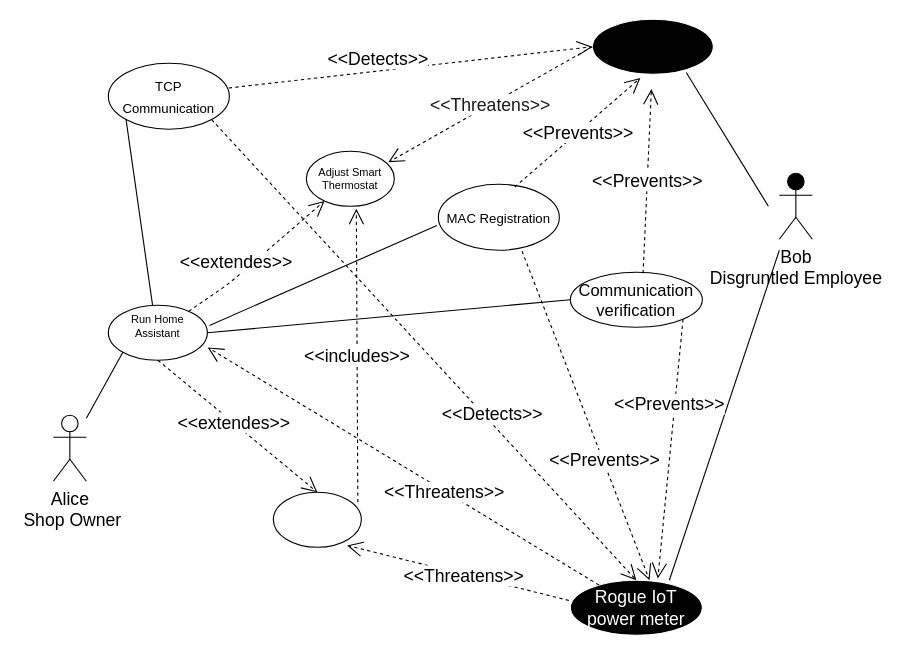
This 901x655 diagram has some shape labels left out. The centre of each missing label's shape, as x and y in pixels:
"Monitor - Power meter" goes at pixel 316 519.
"Rogue Smart Thermostat" goes at pixel 652 46.
